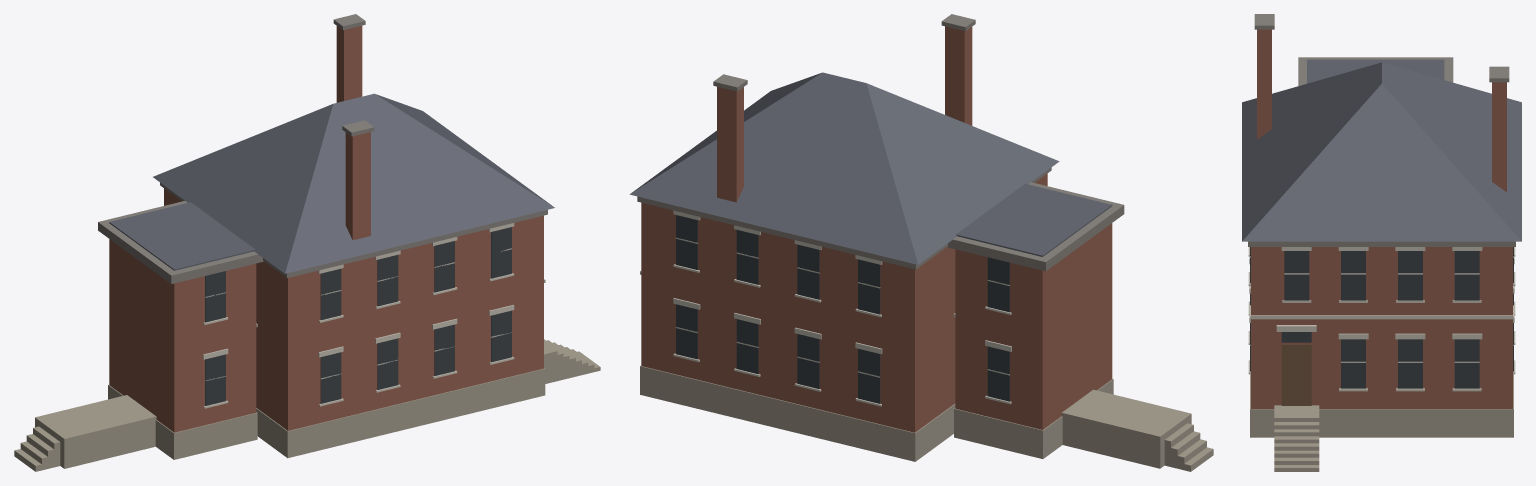
The model's file is house_1829_indiana__draft_1904.glb.
3 renders of one model, left to right at view 1: azimuth 30°, elevation 25°; view 2: azimuth 150°, elevation 25°; view 3: azimuth 270°, elevation 25°, orthographic. The views are drawn at different scales.
Visible parts, largest first — view 1: house_1829_indiana__draft_1904; view 2: house_1829_indiana__draft_1904; view 3: house_1829_indiana__draft_1904.
Boxes of the visible parts, bbox=[...] form: house_1829_indiana__draft_1904: bbox=[14, 14, 600, 471]; house_1829_indiana__draft_1904: bbox=[629, 14, 1213, 471]; house_1829_indiana__draft_1904: bbox=[1242, 14, 1521, 471].
Bounding box in the file's own units: 25.75 × 14.36 × 11.2.
